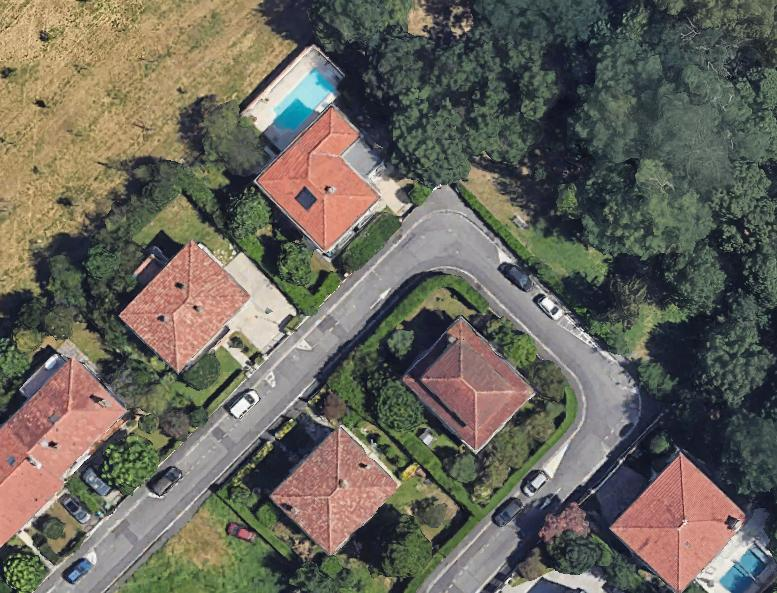maison: (0, 344, 130, 551), (252, 106, 403, 257), (608, 452, 750, 593), (399, 315, 539, 455), (118, 238, 253, 374), (269, 424, 402, 558)
